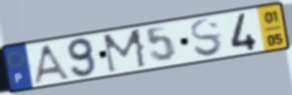4: (229, 11, 260, 53)
5: (143, 24, 180, 66)
9: (65, 36, 99, 79)
A: (31, 43, 72, 86)
M: (101, 27, 150, 75)
S: (189, 17, 225, 59)
